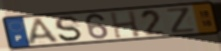2: (140, 9, 168, 37)
6: (84, 12, 110, 41)
A: (26, 16, 62, 46)
H: (109, 10, 142, 39)
S: (53, 14, 84, 42)
Z: (165, 6, 198, 34)
